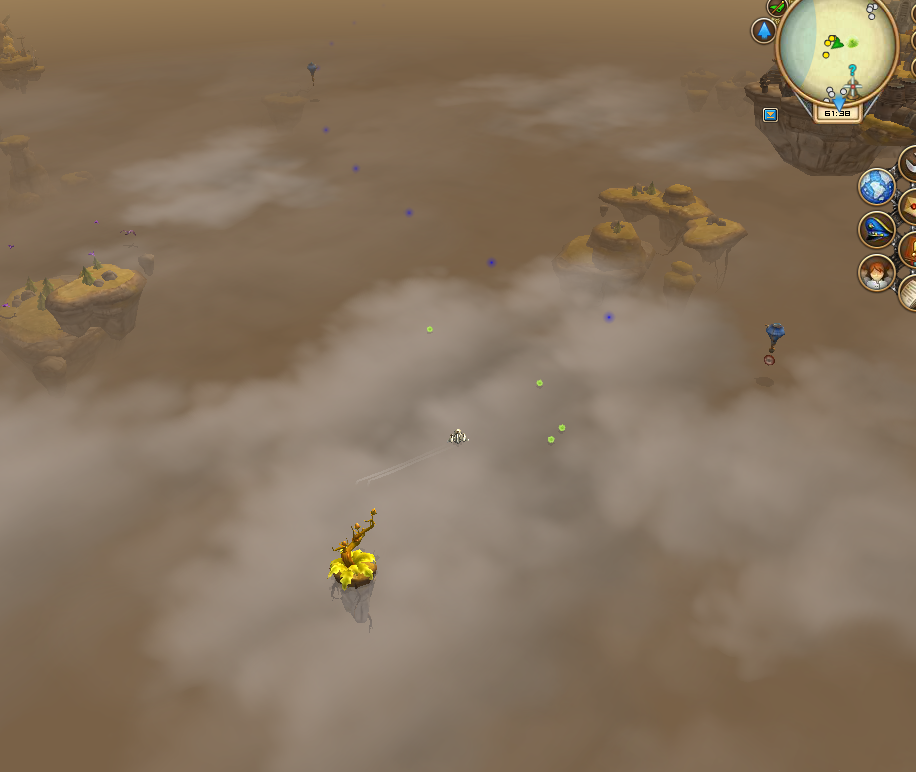dandelion-empty: (322, 501, 392, 626)
fluff: (555, 419, 570, 435), (423, 322, 438, 335), (544, 432, 557, 447), (534, 375, 546, 390)
